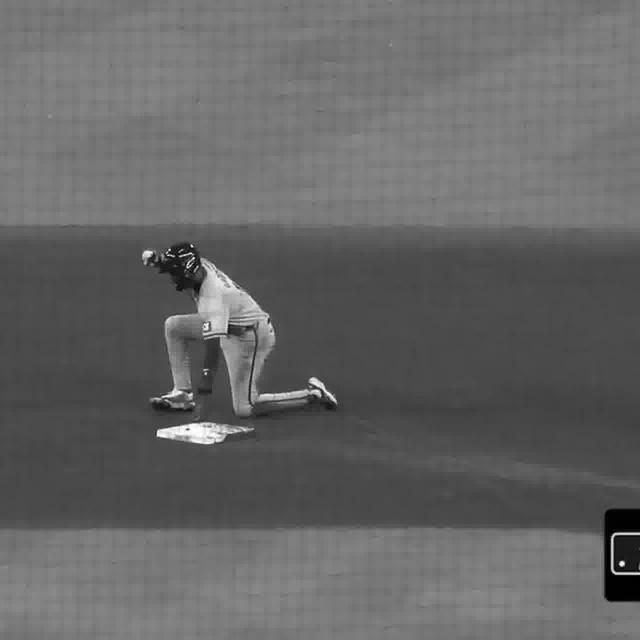base: (155, 422, 252, 445)
shoe: (309, 379, 338, 409), (150, 392, 190, 412)
